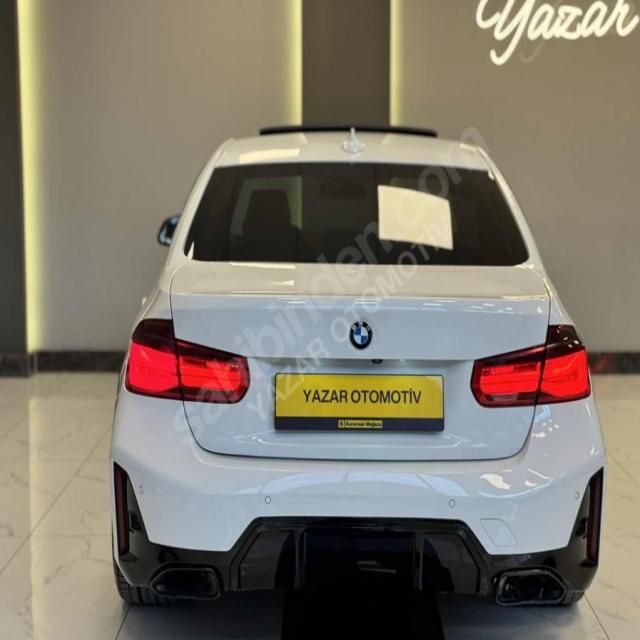bmw: (348, 316, 376, 353)
